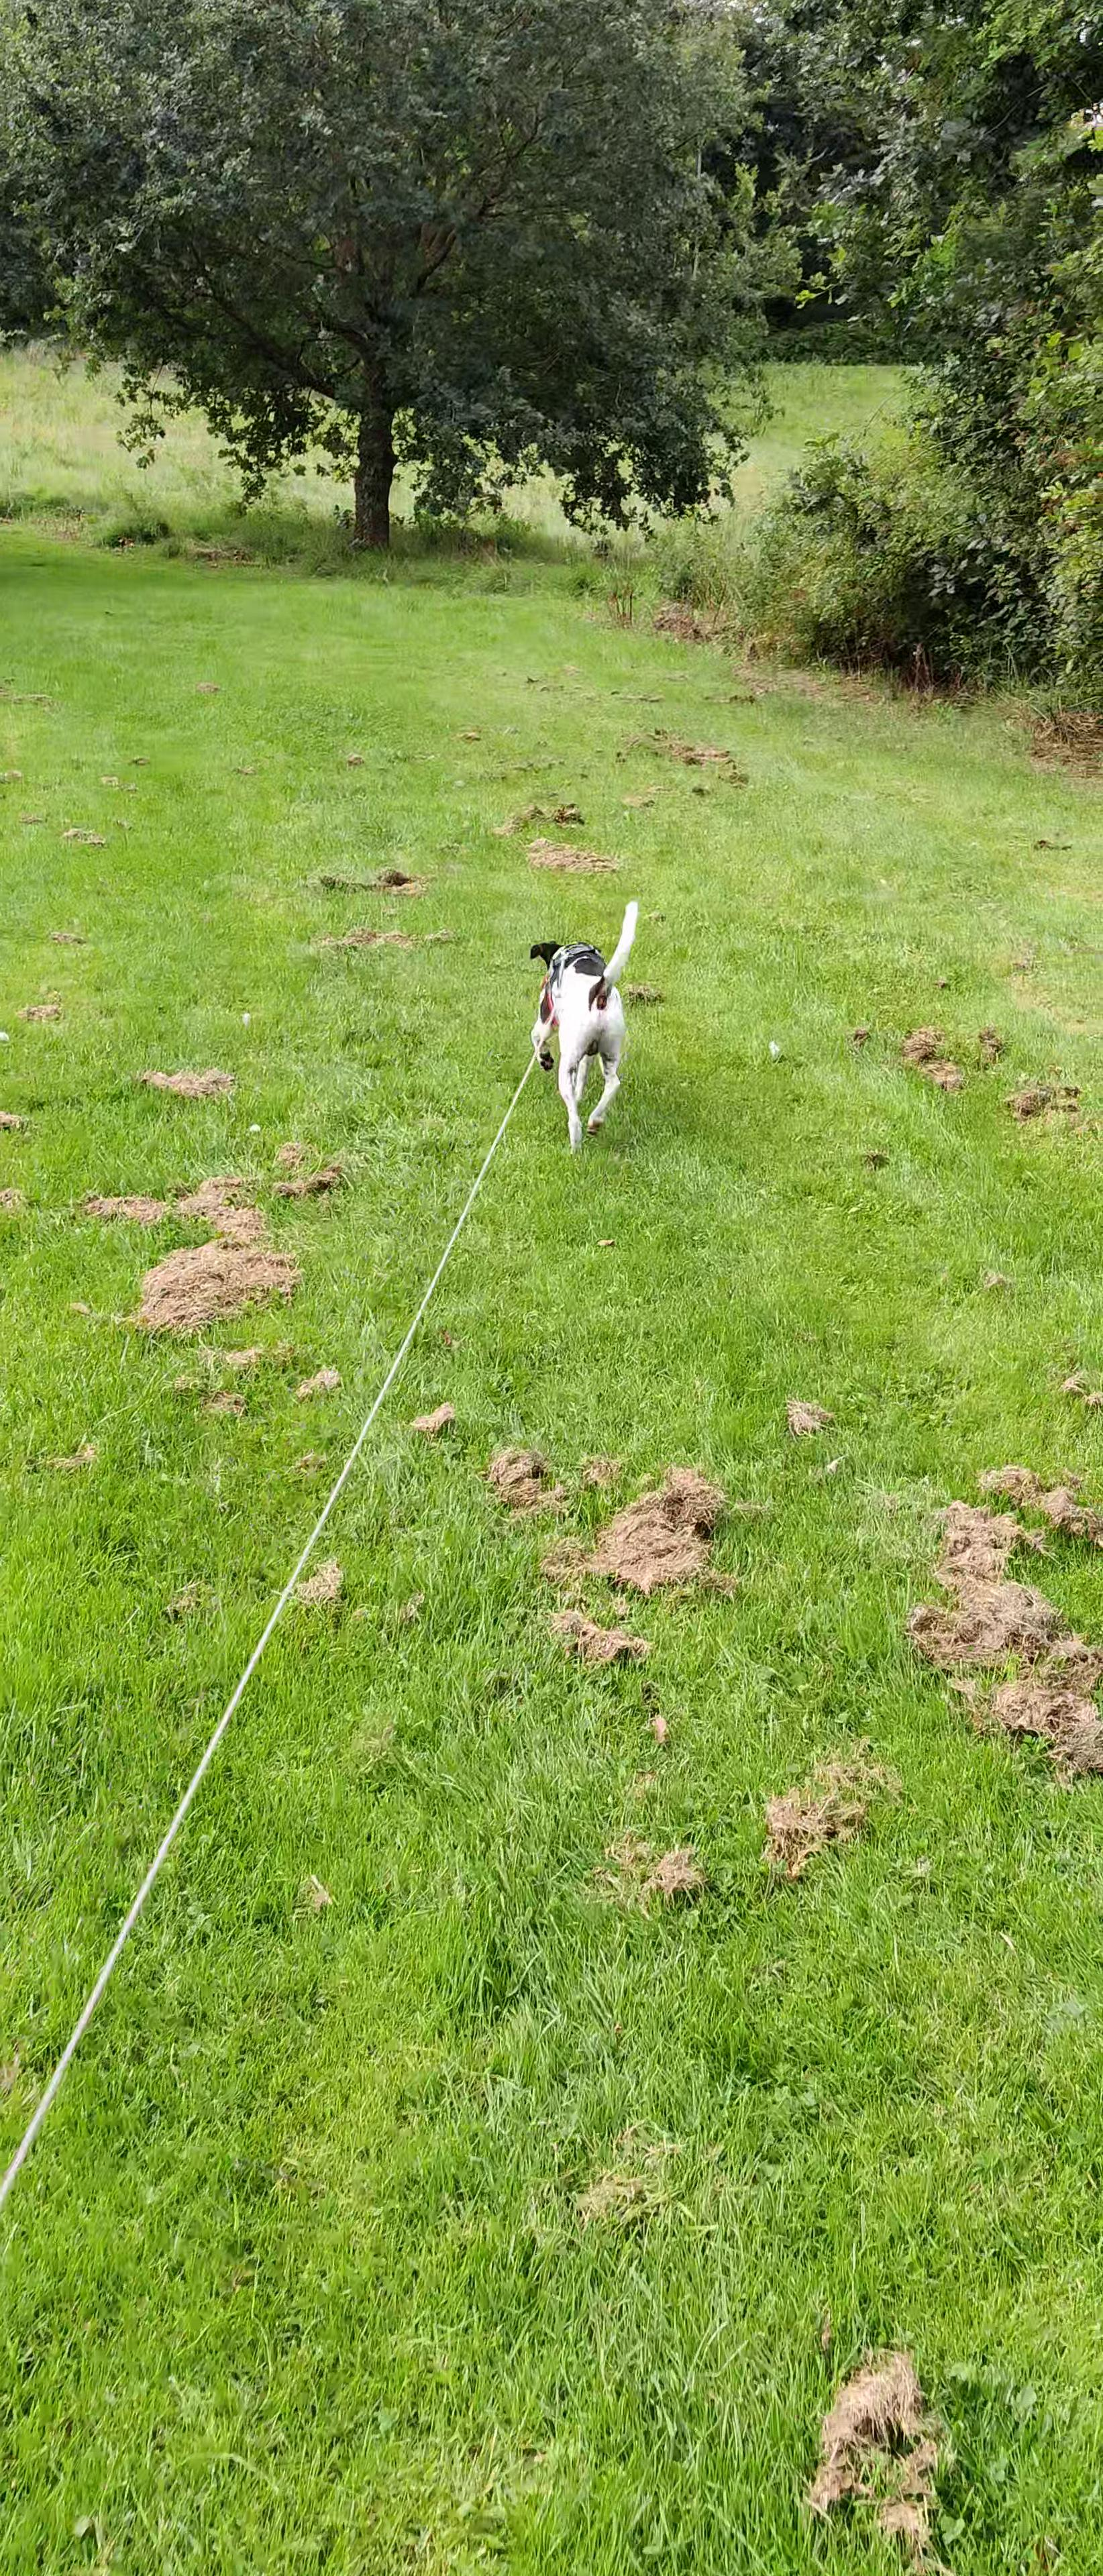Dog: (524, 895, 651, 1157)
